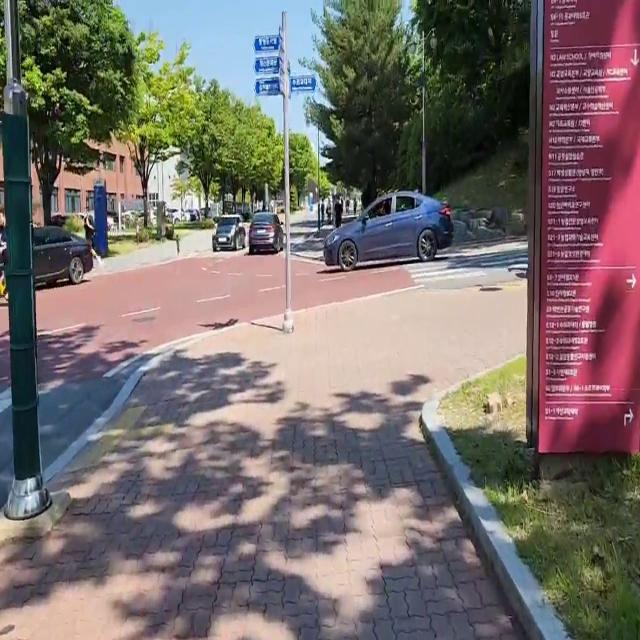car: (319, 188, 461, 270), (31, 221, 95, 288), (248, 206, 286, 258), (212, 211, 248, 253)
human: (334, 189, 344, 229), (325, 195, 334, 230)
streetlamp: (404, 21, 441, 197)
